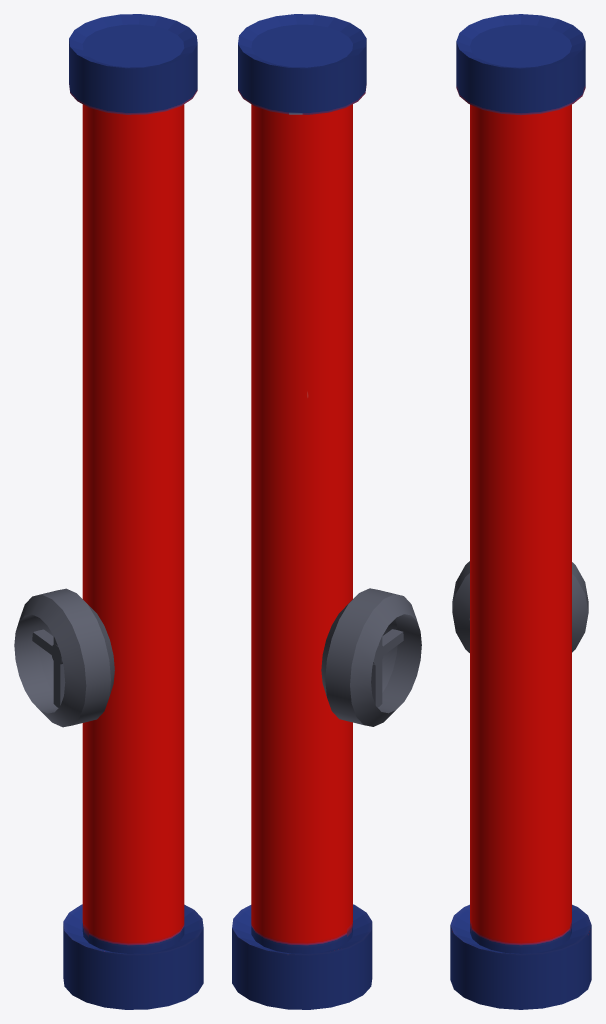
Rendered from Lab Buizen model 2.fbx.
3 renders of one model, left to right at view 1: azimuth 30°, elevation 25°; view 2: azimuth 150°, elevation 25°; view 3: azimuth 270°, elevation 25°, orthographic.
Parts seen in each view (by area): view 1: pCylinder13; view 2: pCylinder13; view 3: pCylinder13.
Boxes of the visible parts, left/top/right/bottom form: pCylinder13: left=14, top=14, right=203, bottom=1009; pCylinder13: left=232, top=14, right=421, bottom=1009; pCylinder13: left=450, top=14, right=591, bottom=1009.
Bounding box in the file's own units: 35.03 × 203 × 27.61.
1 material, 1 textured.
